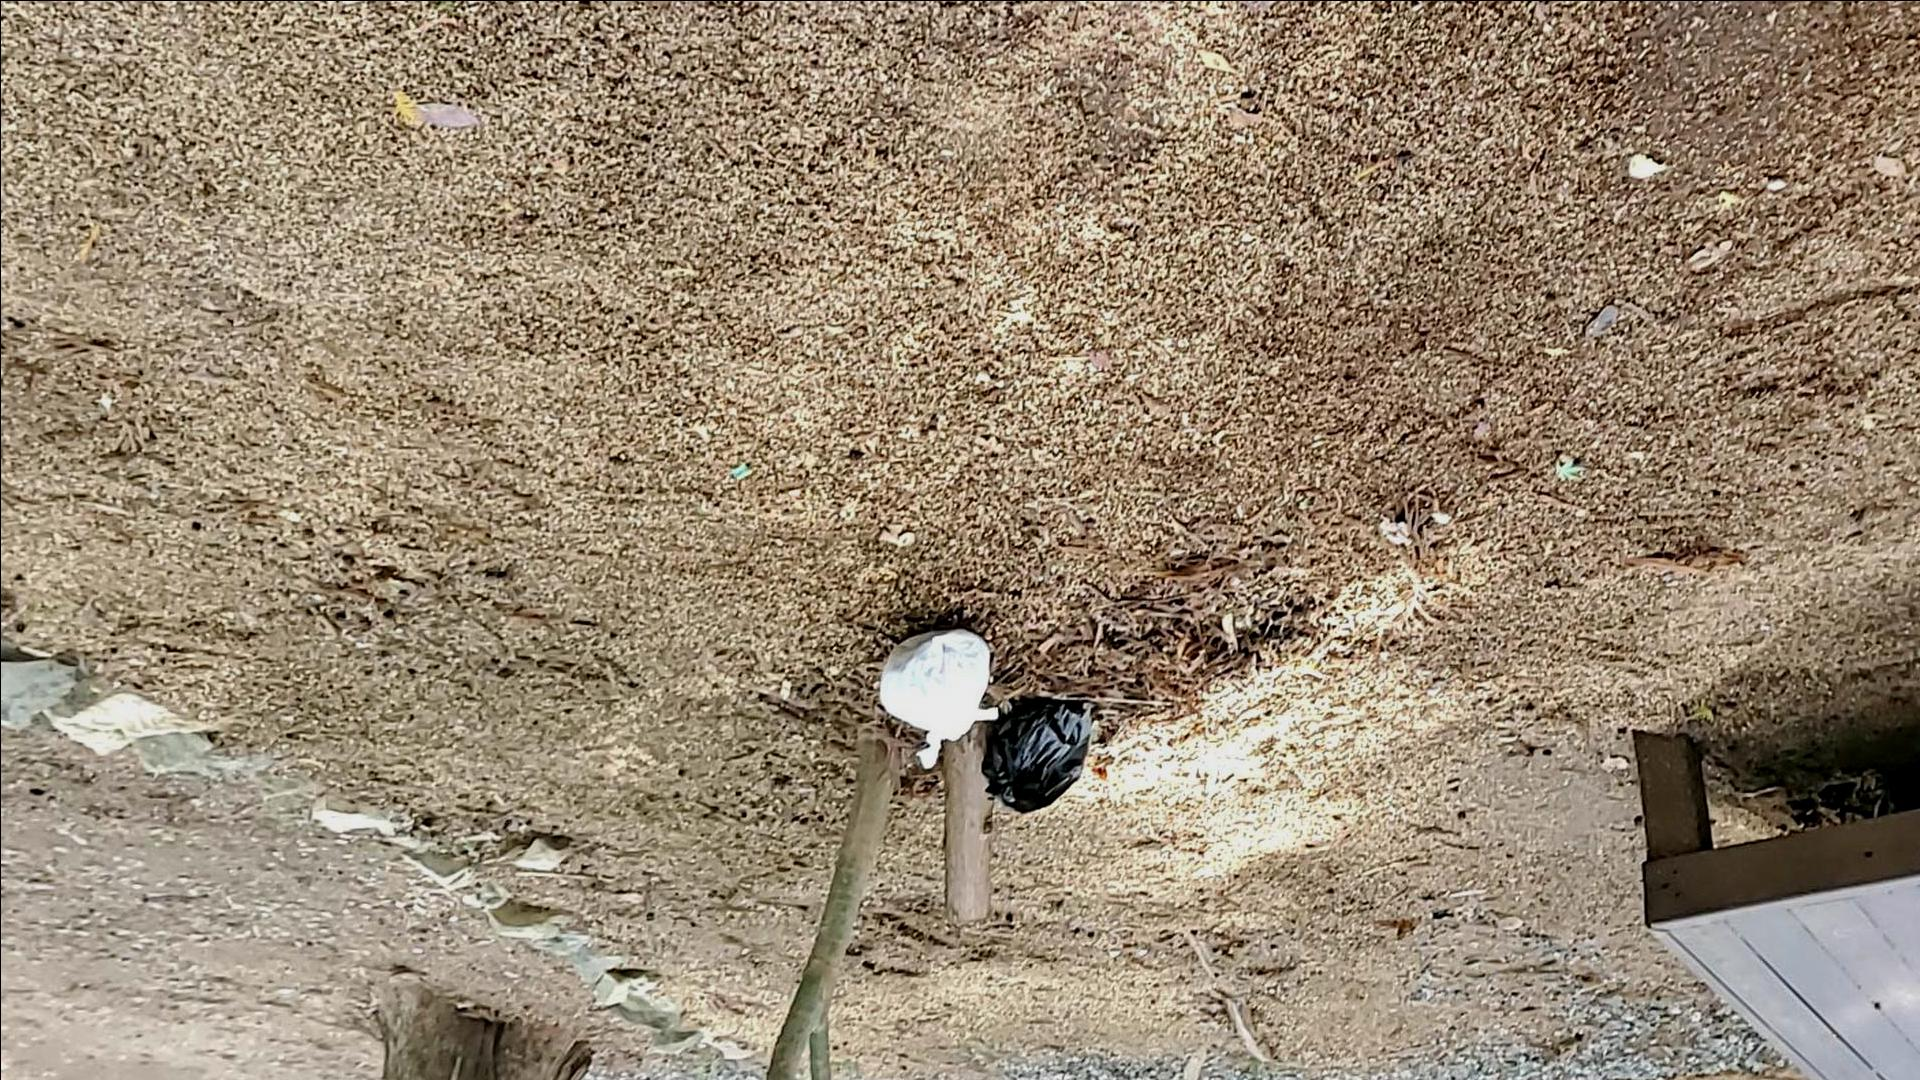black_bag: (981, 694, 1098, 814)
white_bag: (868, 624, 1007, 773)
